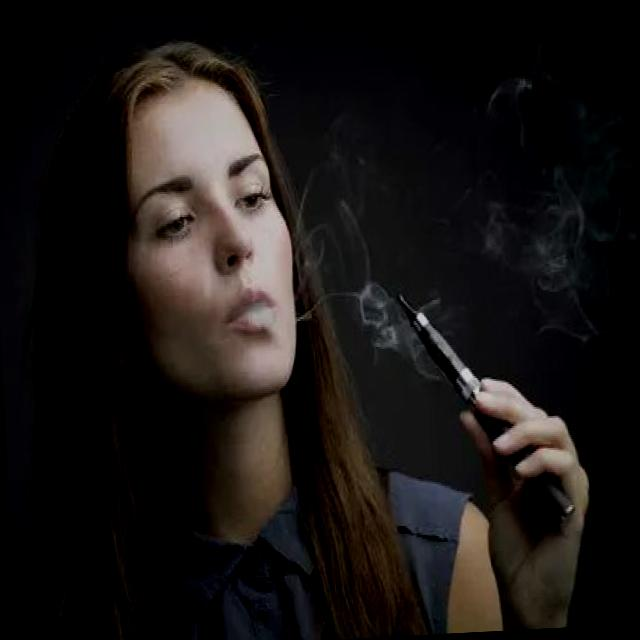smoke: (388, 277, 576, 552)
